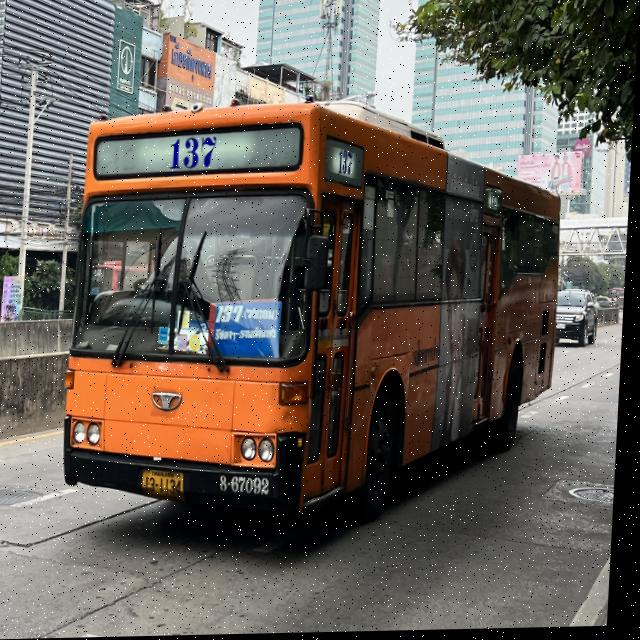BMTA-bus: (66, 104, 565, 526)
Bus Line Number: (158, 128, 228, 174)
Bus Side Number: (220, 471, 276, 500)
Destination Sign: (217, 300, 287, 366)
